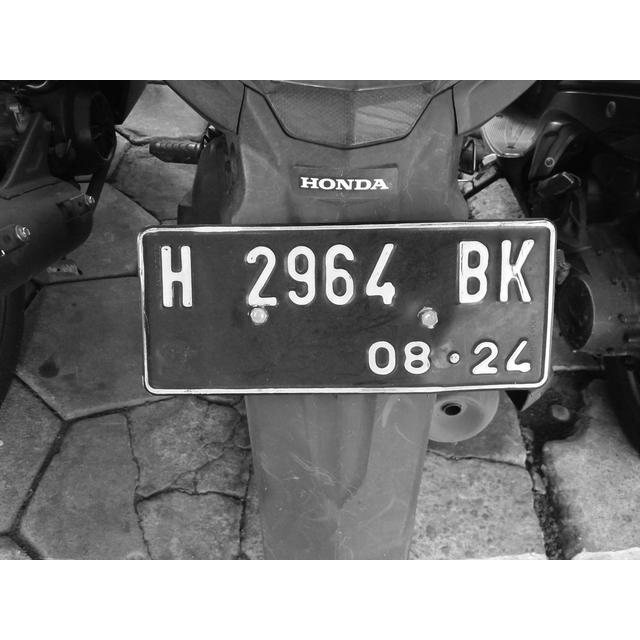license: (155, 232, 540, 380)
